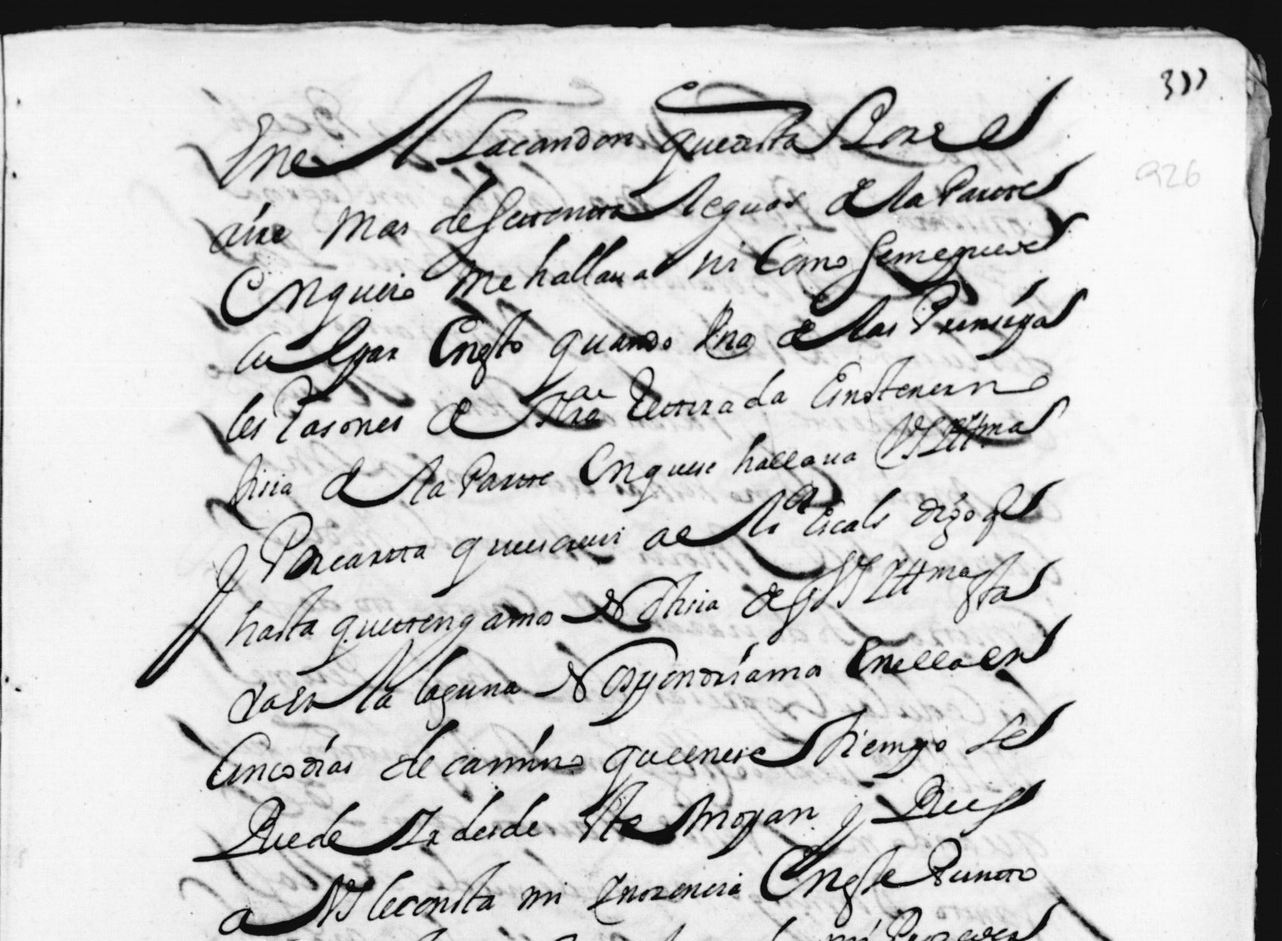lacandon: (435, 109, 633, 165)
